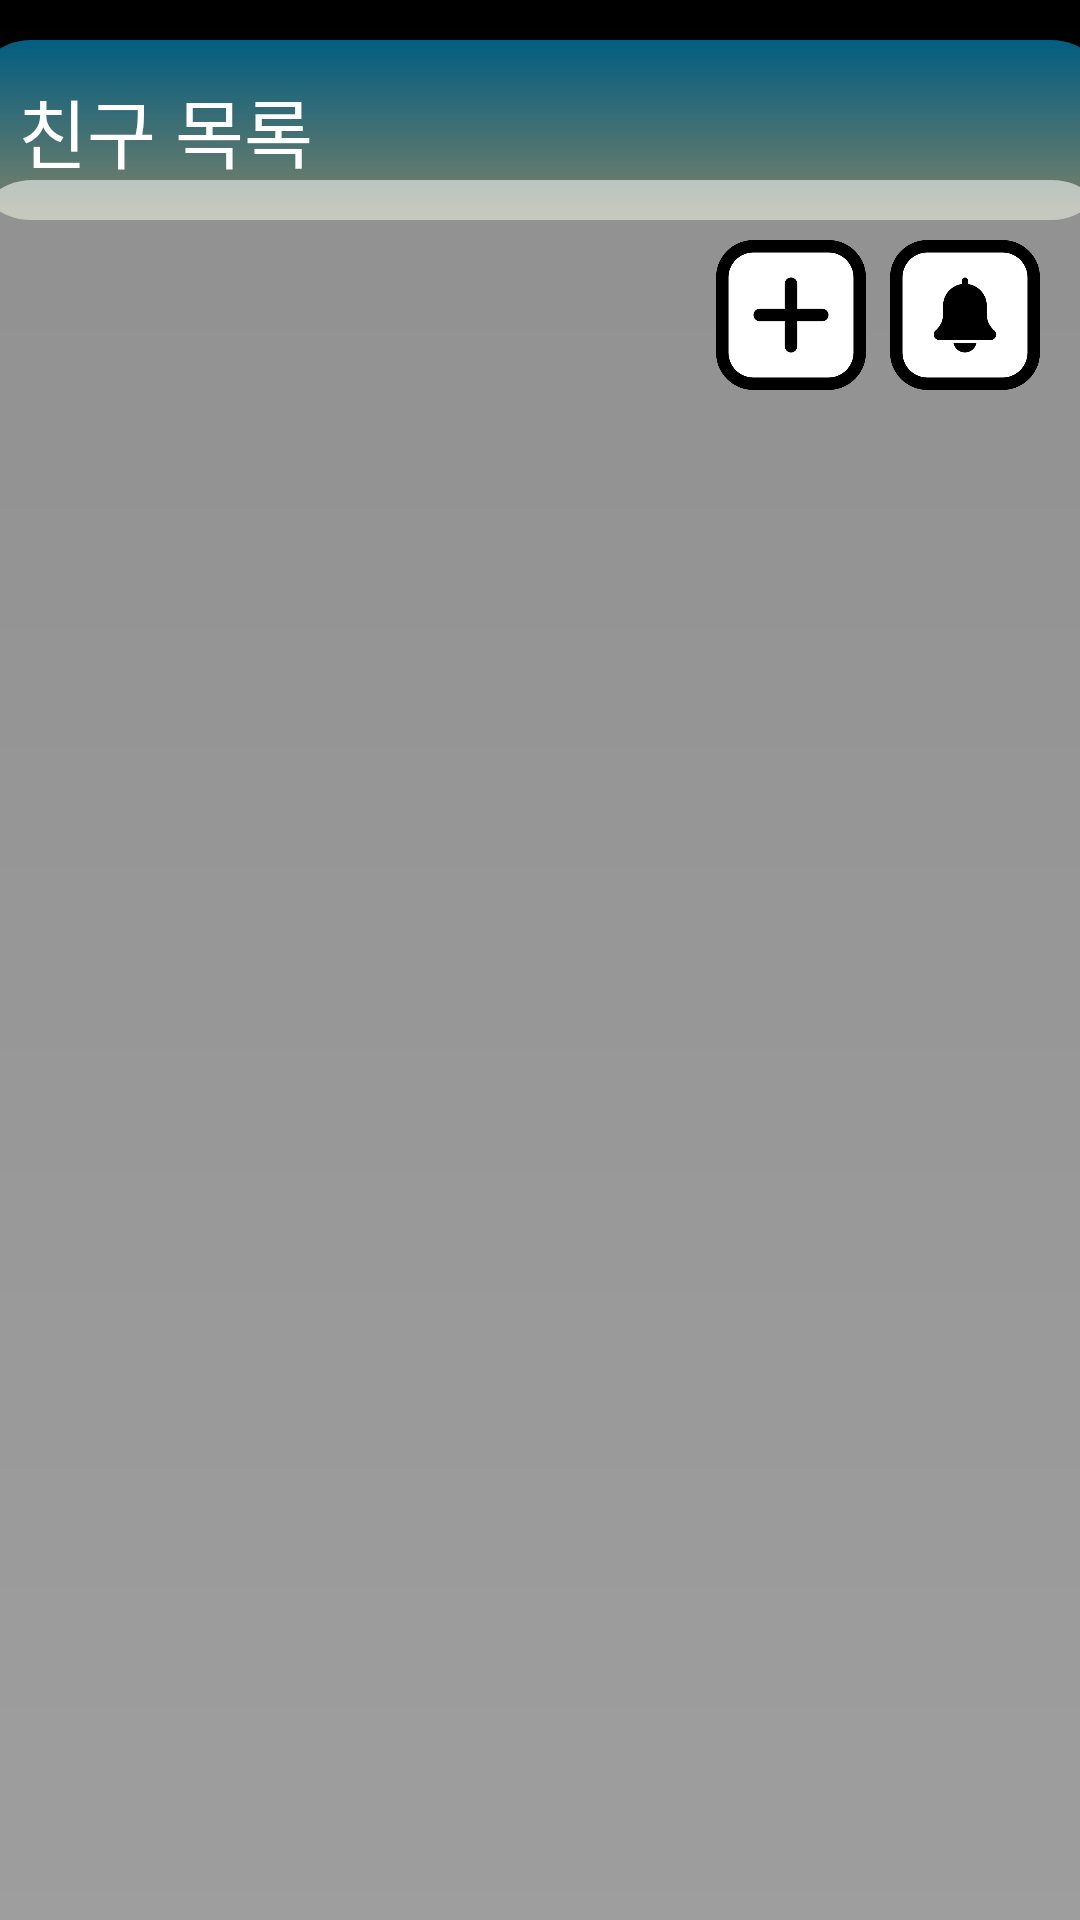

Named icons in this screenshot (1080 x 1920) and their bounding boxes, (x1, y1, x2, y2):
bell: (890, 240, 1040, 390)
